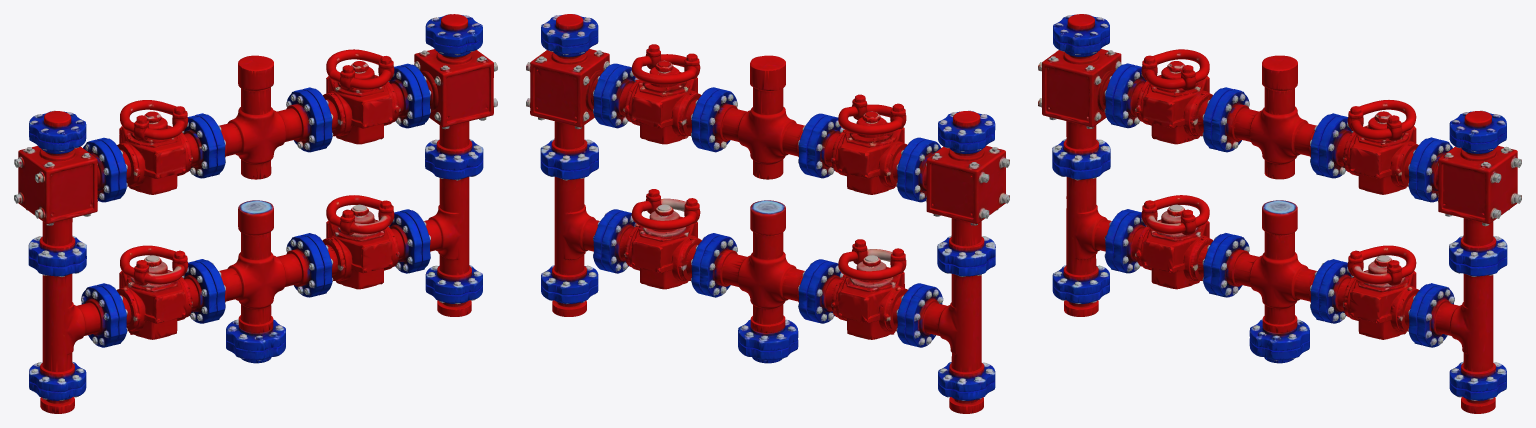
Rendered from retornoDeFlujo.glb.
3 renders of one model, left to right at view 1: azimuth 30°, elevation 25°; view 2: azimuth 150°, elevation 25°; view 3: azimuth 330°, elevation 25°, orthographic.
Parts seen in each view (by area): view 1: tripo_node_4efe09d2-1d01-49d0-8f38-e8e8bd0c8abc; view 2: tripo_node_4efe09d2-1d01-49d0-8f38-e8e8bd0c8abc; view 3: tripo_node_4efe09d2-1d01-49d0-8f38-e8e8bd0c8abc.
Part boxes in pixels (x1,y1,x2,y2): tripo_node_4efe09d2-1d01-49d0-8f38-e8e8bd0c8abc: [14, 14, 497, 413]; tripo_node_4efe09d2-1d01-49d0-8f38-e8e8bd0c8abc: [526, 14, 1009, 413]; tripo_node_4efe09d2-1d01-49d0-8f38-e8e8bd0c8abc: [1038, 14, 1521, 413].
Size of the model in its own units: 0.9833 by 0.6019 by 0.1409.
Materials: 1 (1 with a texture image).
